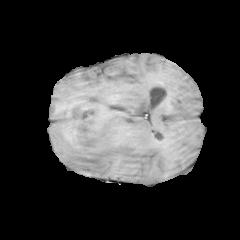glioma: (52, 98, 150, 173)
